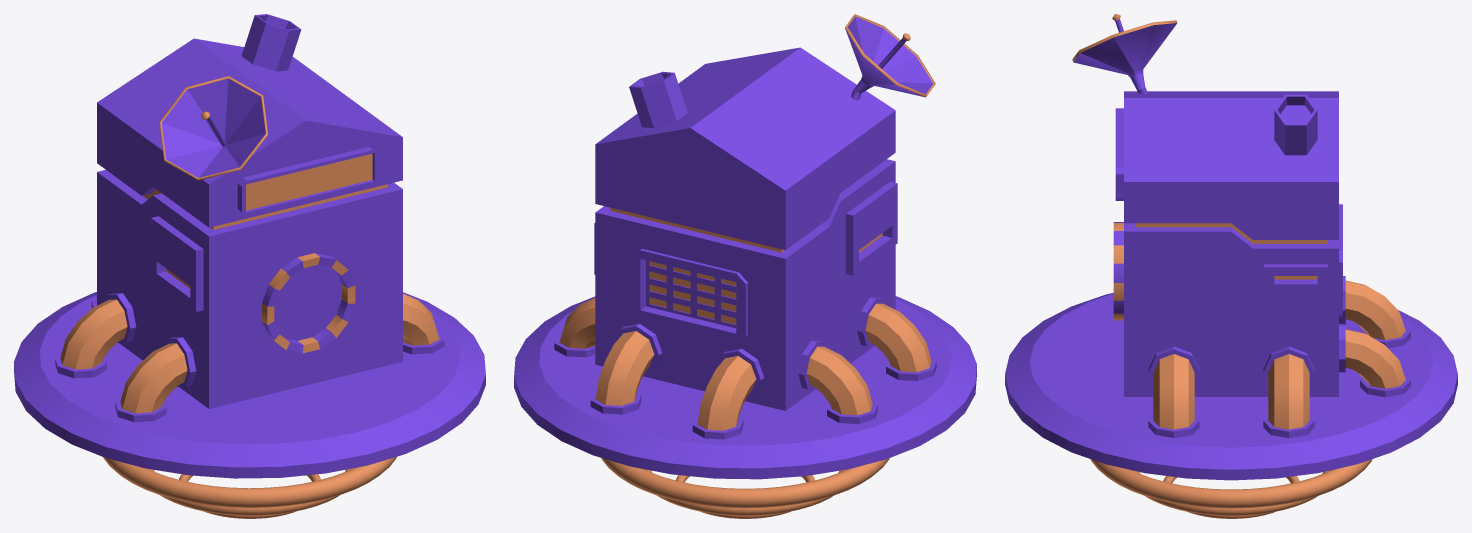
The model's file is Sherman's House Model FBX.fbx.
3 renders of one model, left to right at view 1: azimuth 30°, elevation 25°; view 2: azimuth 150°, elevation 25°; view 3: azimuth 270°, elevation 25°, orthographic. The views are drawn at different scales.
Parts seen in each view (by area): view 1: House Body, Sherman Platform, House Pipes, Satellite, Hover Beam 1, Door Ring, Hover Beam 2; view 2: House Body, Sherman Platform, House Pipes, Hover Beam 1, Satellite, Hover Beam 2; view 3: House Body, Sherman Platform, House Pipes, Hover Beam 1, Satellite, Hover Beam 2, Door Ring.
Boxes of the visible parts, x1,y1,x2,y2 form: House Body: (97,14,402,408); Sherman Platform: (14,292,485,478); House Pipes: (55,293,444,422); Satellite: (159,76,267,180); Hover Beam 1: (103,456,396,507); Door Ring: (262,253,355,353); Hover Beam 2: (149,468,352,515); House Body: (594,47,897,410); Sherman Platform: (514,296,976,479); House Pipes: (554,297,936,439); Hover Beam 1: (601,458,889,508); Satellite: (845,14,935,100); Hover Beam 2: (645,469,844,515); House Body: (1115,91,1342,396); Sherman Platform: (1005,293,1457,480); House Pipes: (1148,276,1410,437); Hover Beam 1: (1090,459,1372,508); Satellite: (1072,14,1177,93); Hover Beam 2: (1133,470,1329,515); Door Ring: (1113,222,1123,320).
Bounding box in the file's own units: 200 × 214 × 200.
